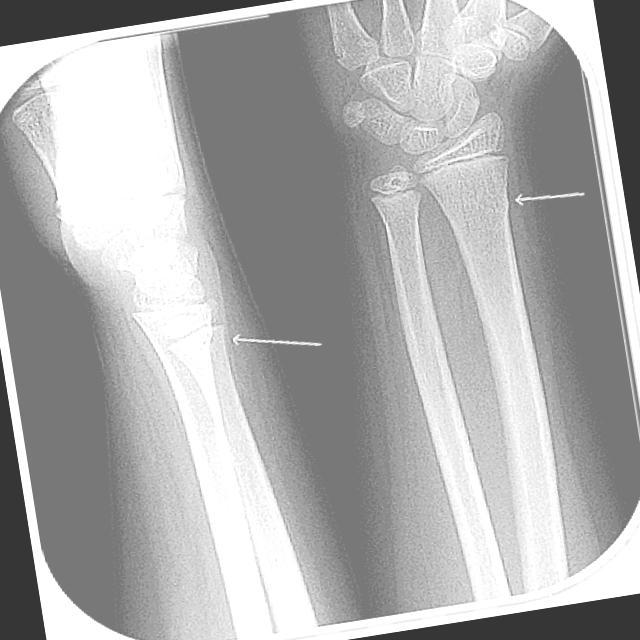GreenStick Fracture: (178, 318, 226, 352)
